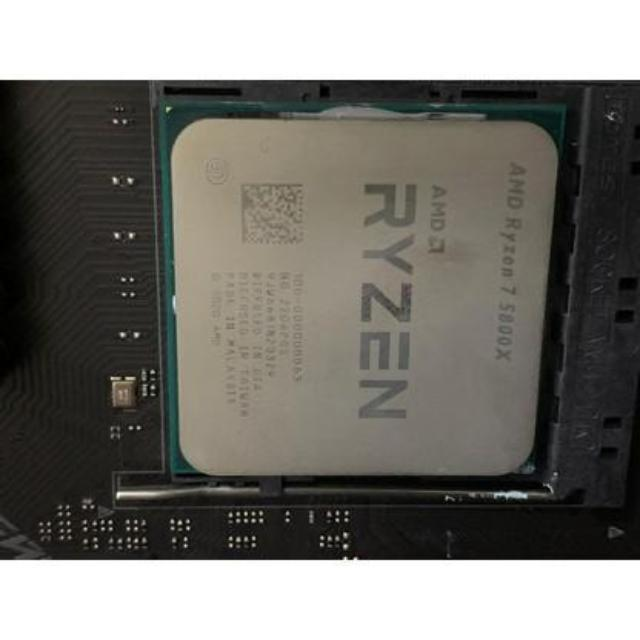CPU: (164, 104, 550, 482)
